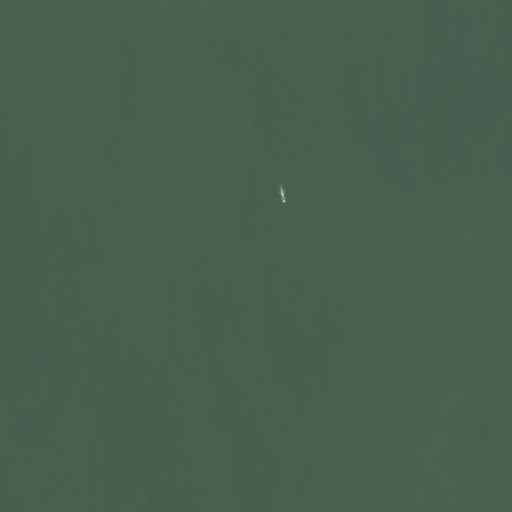ship: (276, 186, 288, 206)
